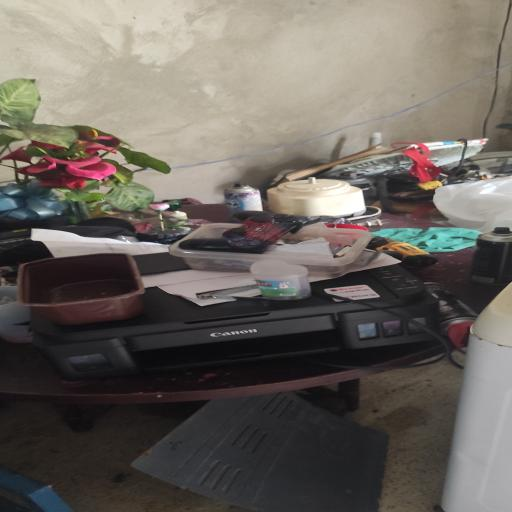ControlPlay4: (179, 212, 301, 254)
